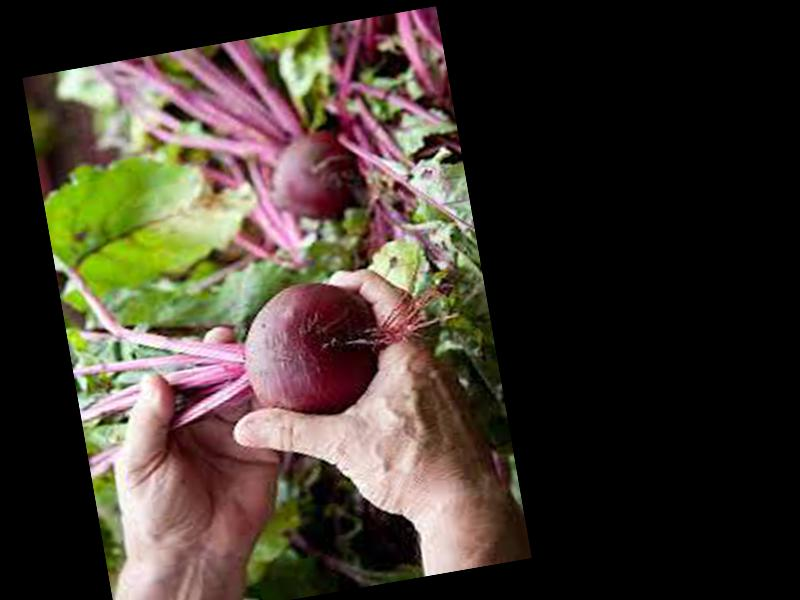Beet: (55, 200, 391, 459)
